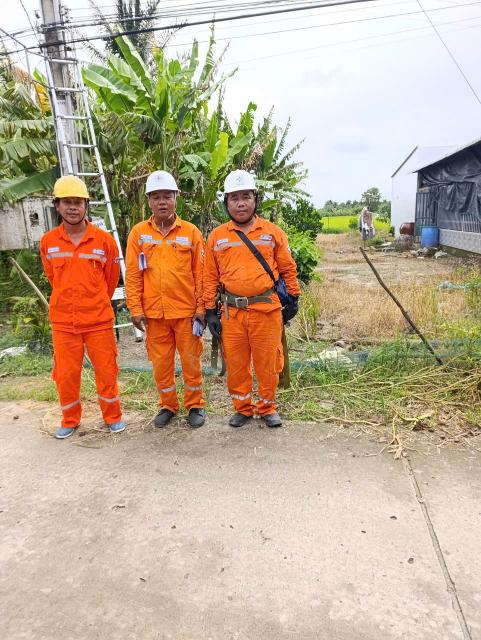gloves: (202, 304, 232, 340), (283, 294, 310, 323)
harness: (205, 277, 289, 316)
helmet: (135, 160, 187, 205), (45, 170, 96, 206), (215, 171, 265, 198)
shoes: (52, 415, 84, 445), (104, 413, 130, 440), (224, 406, 251, 430), (258, 408, 286, 431), (154, 404, 177, 431), (187, 403, 207, 429)
